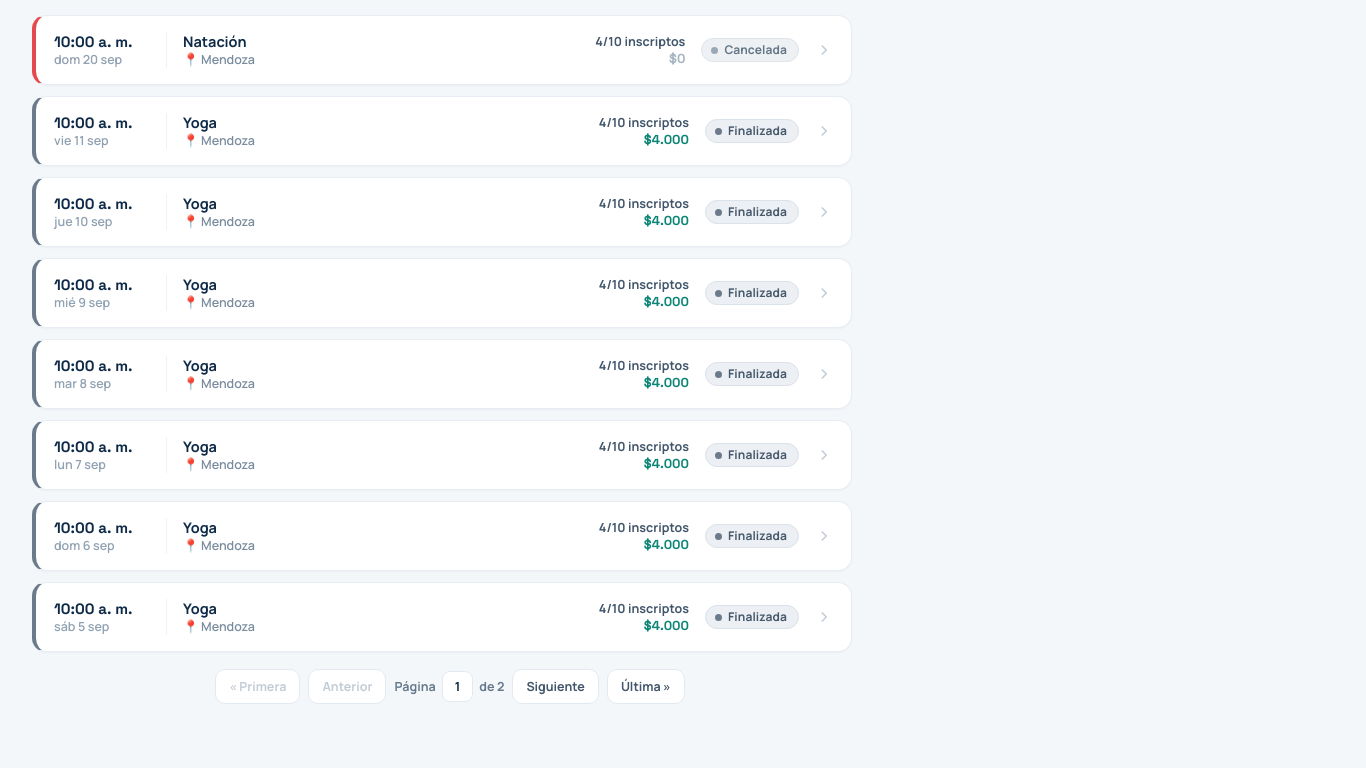
Test: historial del instructor › buscar desde la página 2 vuelve a la 1, y la cruz limpia la búsqueda
The image size is (1366, 768).
(page scrolled)
Click the button "Siguiente" at (556, 686), box [512,669,599,704]
(page scrolled)
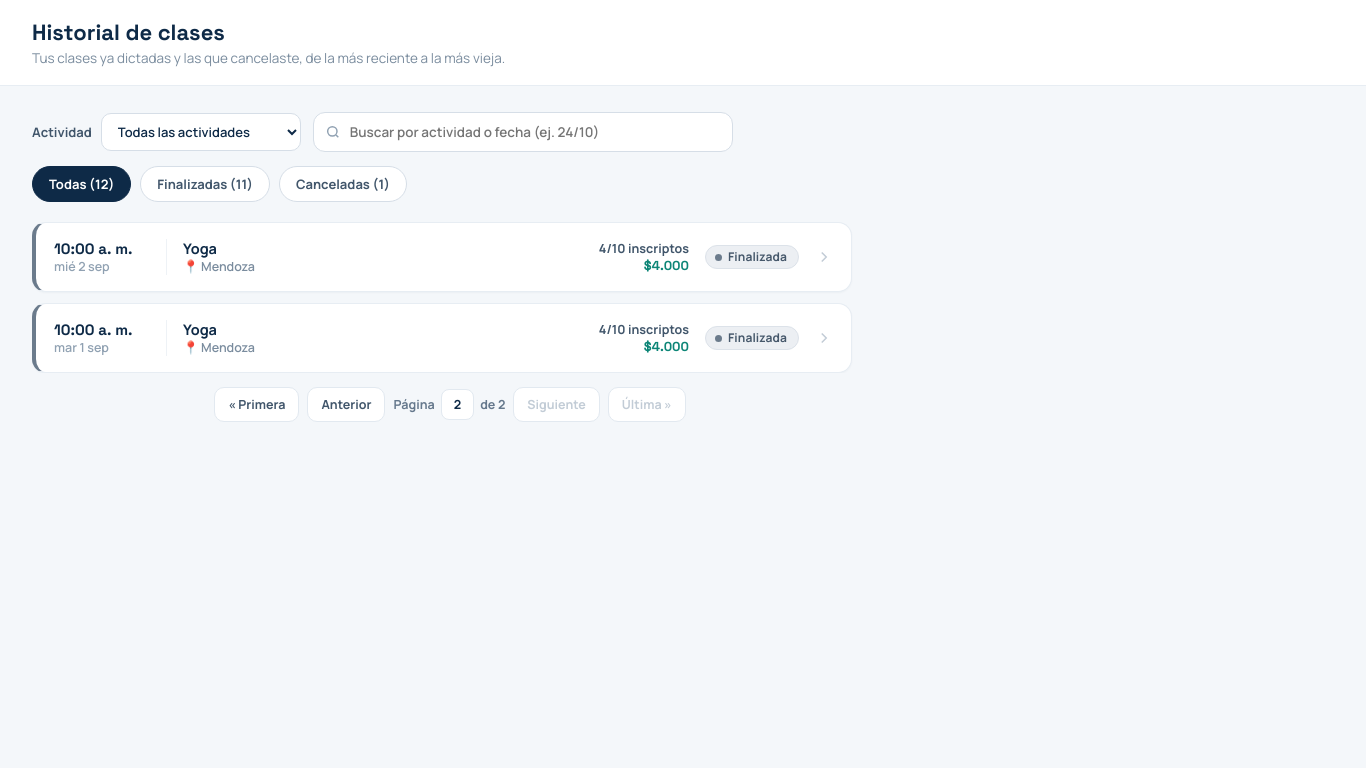
Type "yoga" into the search field named "Buscar clases" at (523, 132), box [313,112,733,152]
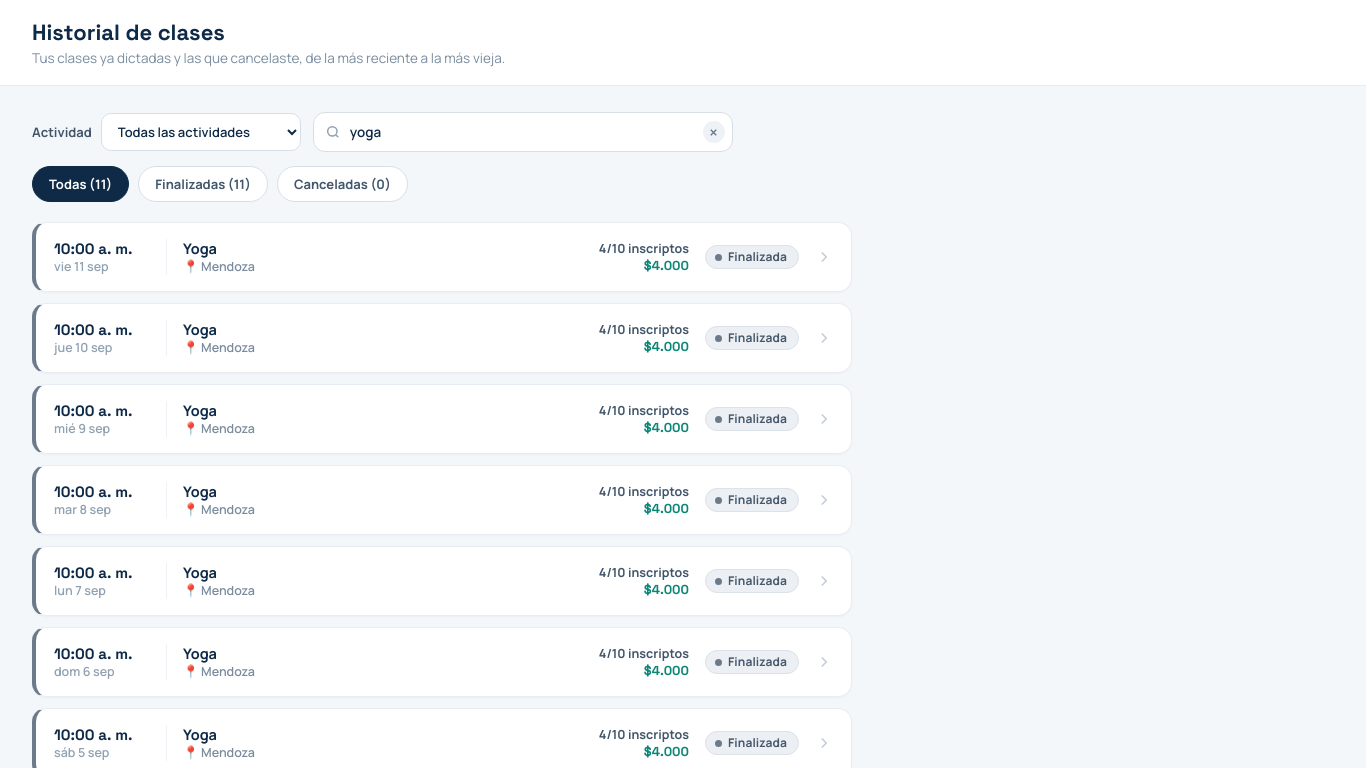
Expected: the number of buttons titled "Ver el detalle de la clase" is 10
Click the button named "Limpiar búsqueda" at (714, 132), box [703,121,725,143]
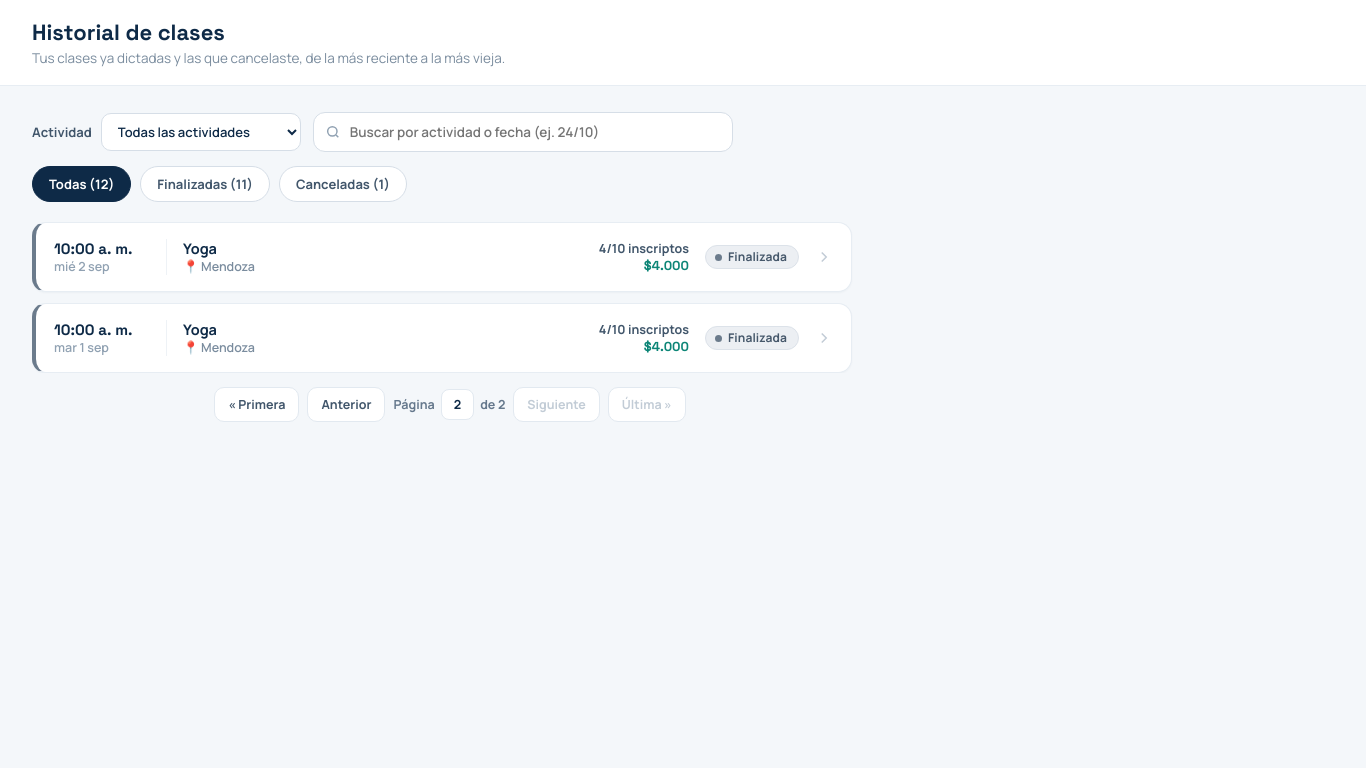
Expected: the search field named "Buscar clases" is empty, [313,112,733,152]
Expected: the button "Todas (12)" is shown, [32,166,131,202]
